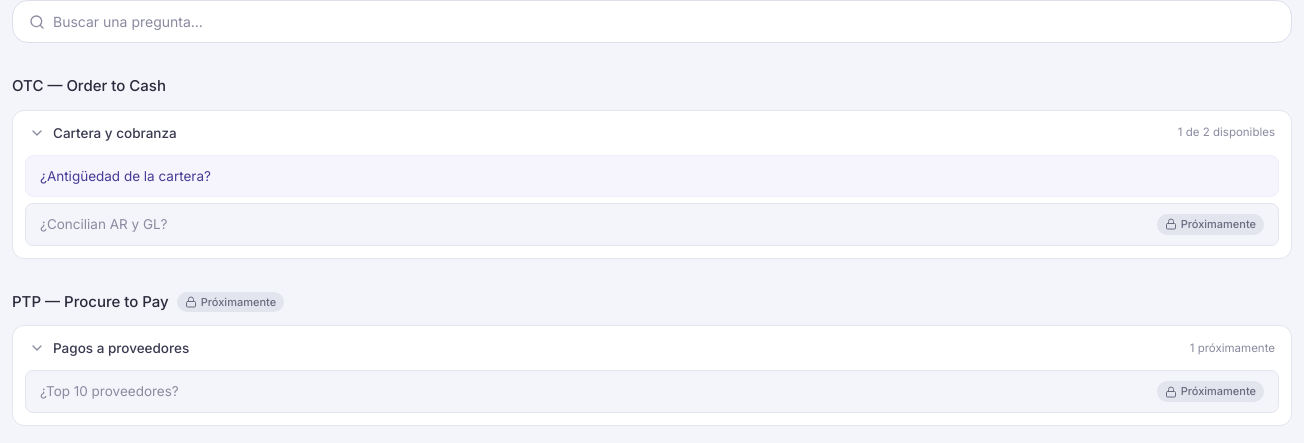
it: CatalogoExplorador › con texto SIN coincidencias muestra el mensaje vacío
The image size is (1304, 443).
Expected: the button "¿Antigüedad de la cartera?" is shown, [25,155,1279,197]
Type "xyz no existe" into the field labelled "Buscar una pregunta" at (664, 22), box [53,11,1275,32]
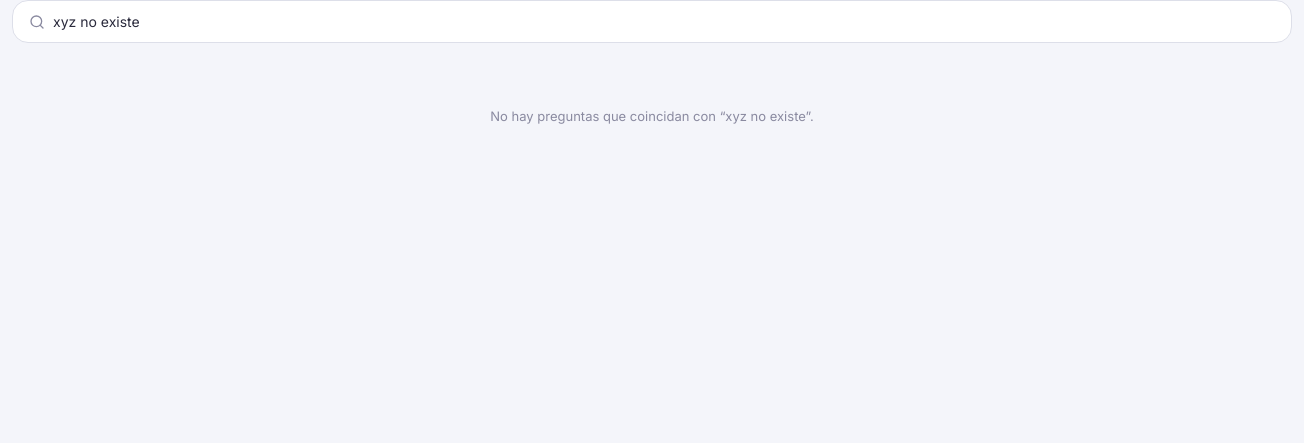
Result: the text "No hay preguntas que coincidan con “xyz no existe”." is shown at [490,108,814,124]
